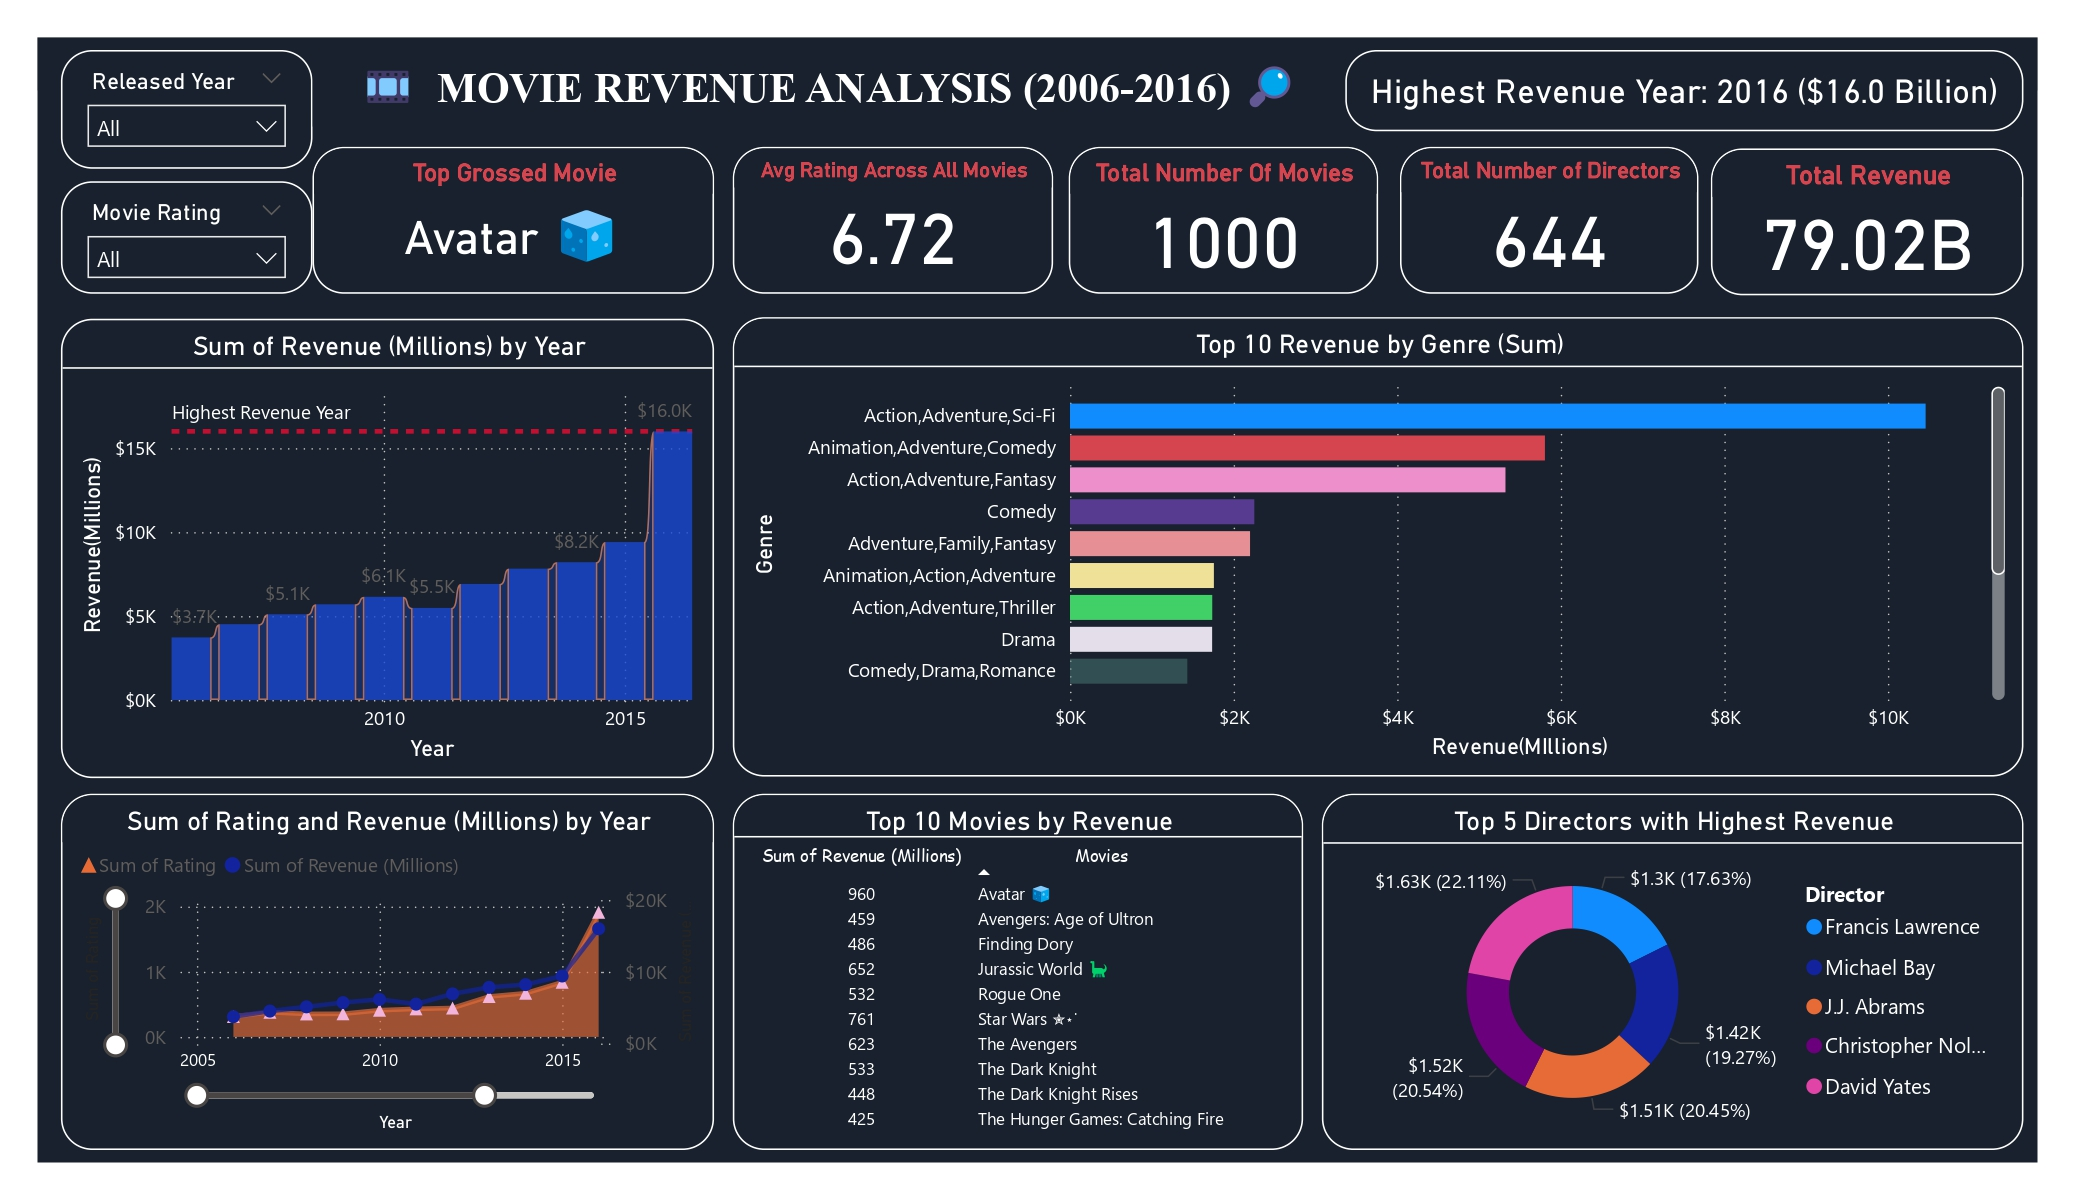

The page's visual inventory and layout, read from the dashboard file:
{"tool":"powerbi","page":{"name":"Page 1","canvas":[1280,720],"ordinal":0},"visuals":[{"type":"columnChart","fields":{"Category":["IMDB-Movie-Data.Year"],"Y":["IMDB-Movie-Data.Revenue (Millions)"]},"box":[15.1,180.2,417.4,294.2],"z":0},{"type":"clusteredBarChart","title":"Top 10 Revenue by Genre (Sum)","fields":{"Category":["IMDB-Movie-Data.Genre"],"Y":["IMDB-Movie-Data.Revenue (Millions)"]},"box":[445.4,179.1,825.6,294.2],"z":1000},{"type":"lineChart","title":"Sum of Rating and Revenue (Millions) by Year","fields":{"Category":["IMDB-Movie-Data.Year"],"Y":["IMDB-Movie-Data.Rating"],"Y2":["IMDB-Movie-Data.Revenue (Millions)"]},"box":[15.1,483.7,417.4,227.9],"z":2000},{"type":"tableEx","title":"Top 10 Movies by Revenue ","fields":{"Values":["IMDB-Movie-Data.Revenue (Millions)","IMDB-Movie-Data.Title"]},"box":[445.4,483.7,365.1,227.9],"z":3000},{"type":"slicer","fields":{"Values":["IMDB-Movie-Data.Rating"]},"box":[15.1,91.9,160.5,72.1],"z":4000},{"type":"slicer","title":"Year Of Movie","fields":{"Values":["IMDB-Movie-Data.Year"]},"box":[15.1,8.1,160.5,75.6],"z":5000},{"type":"donutChart","title":"Top 5 Directors with Highest Revenue","fields":{"Category":["IMDB-Movie-Data.Director"],"Y":["IMDB-Movie-Data.Revenue (Millions)"]},"box":[822.1,483.7,448.8,227.9],"z":6000},{"type":"textbox","box":[175.6,7,661.6,50],"z":7000},{"type":"card","title":"Total Number Of Movies","fields":{"Values":["IMDB-Movie-Data.Title"]},"box":[660.5,69.8,197.7,94.2],"z":8000},{"type":"card","title":"Avg Rating Across All Movies","fields":{"Values":["IMDB-Movie-Data.Average Rating"]},"box":[445.4,69.8,204.7,94.2],"z":9000},{"type":"card","title":"Total Revenue","fields":{"Values":["Director_Images.Total Revenue"]},"box":[1070.9,70.9,200,94.2],"z":10000},{"type":"card","title":"Total Number of Directors","fields":{"Values":["IMDB-Movie-Data.Director"]},"box":[872.1,69.8,190.7,94.2],"z":11000},{"type":"card","title":"Top Grossed Movie","fields":{"Values":["Director_Images.TopGrossingMovie"]},"box":[175.6,69.8,257,94.2],"z":12000},{"type":"card","title":"Total Number of Directors","fields":{"Values":["Director_Images.HighestRevenueYear"]},"box":[837.2,8.1,433.7,52.3],"z":13000}]}

Visuals, with their boxes on the page's 1280x720 design canvas (x1, y1, x2, y2). These are canvas units, not pixel positions in the 2075x1200 screenshot, which may show the page scaled, cropped or inside an application window:
columnChart - IMDB-Movie-Data.Year x IMDB-Movie-Data.Revenue (Millions): box(15, 180, 432, 474)
"Top 10 Revenue by Genre (Sum)" clusteredBarChart: box(445, 179, 1271, 473)
"Sum of Rating and Revenue (Millions) by Year" lineChart: box(15, 484, 432, 712)
"Top 10 Movies by Revenue " tableEx: box(445, 484, 810, 712)
slicer - IMDB-Movie-Data.Rating: box(15, 92, 176, 164)
"Year Of Movie" slicer: box(15, 8, 176, 84)
"Top 5 Directors with Highest Revenue" donutChart: box(822, 484, 1271, 712)
textbox: box(176, 7, 837, 57)
"Total Number Of Movies" card: box(660, 70, 858, 164)
"Avg Rating Across All Movies" card: box(445, 70, 650, 164)
"Total Revenue" card: box(1071, 71, 1271, 165)
"Total Number of Directors" card: box(872, 70, 1063, 164)
"Top Grossed Movie" card: box(176, 70, 433, 164)
"Total Number of Directors" card: box(837, 8, 1271, 60)
